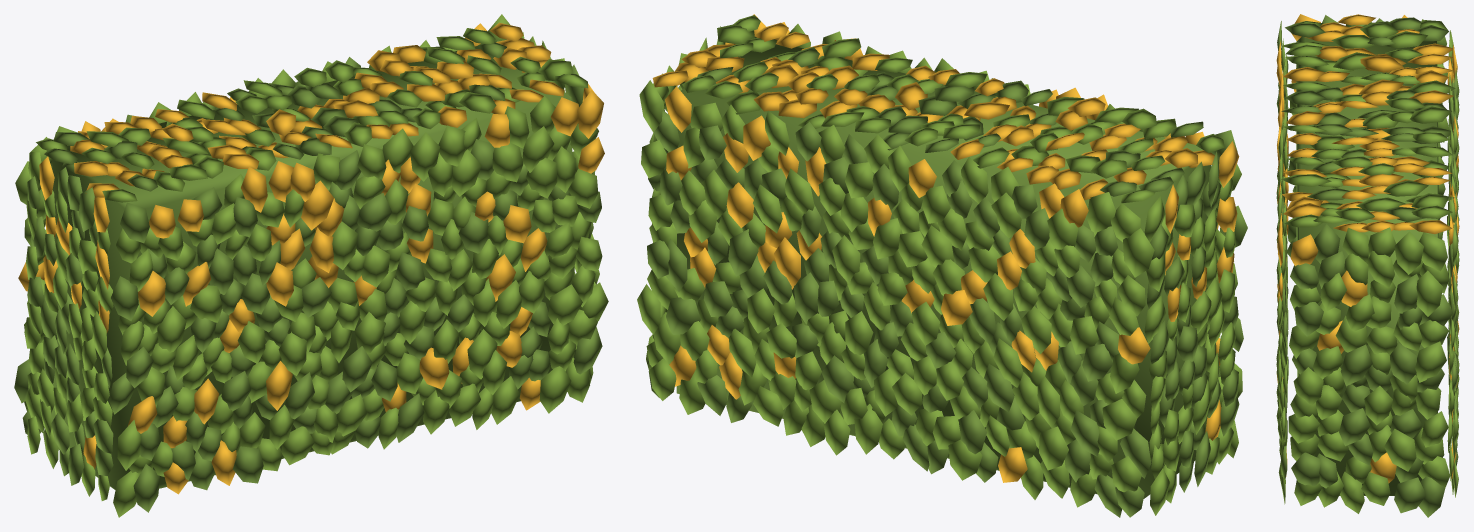
3 renders of one model, left to right at view 1: azimuth 30°, elevation 25°; view 2: azimuth 150°, elevation 25°; view 3: azimuth 270°, elevation 25°, orthographic. The views are drawn at different scales.
Parts seen in each view (by area): view 1: object 2, body; view 2: object 2, body; view 3: object 2, body.
Part boxes in pixels (box(x1,y1,x2,y2)): object 2: box(15, 14, 608, 517); body: box(14, 40, 602, 512); object 2: box(637, 14, 1242, 515); body: box(647, 26, 1247, 517); object 2: box(1276, 14, 1459, 513); body: box(1276, 15, 1459, 517).
Bounding box in the file's own units: 2.53 × 1.56 × 0.8811.
